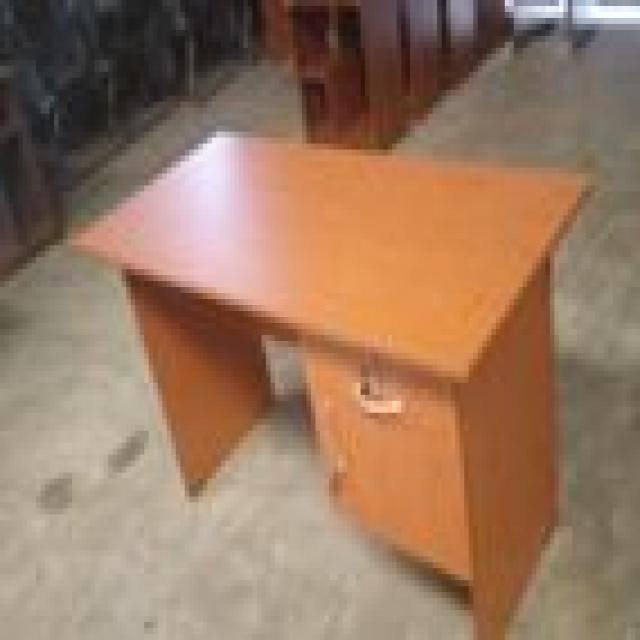others: (63, 119, 599, 640)
